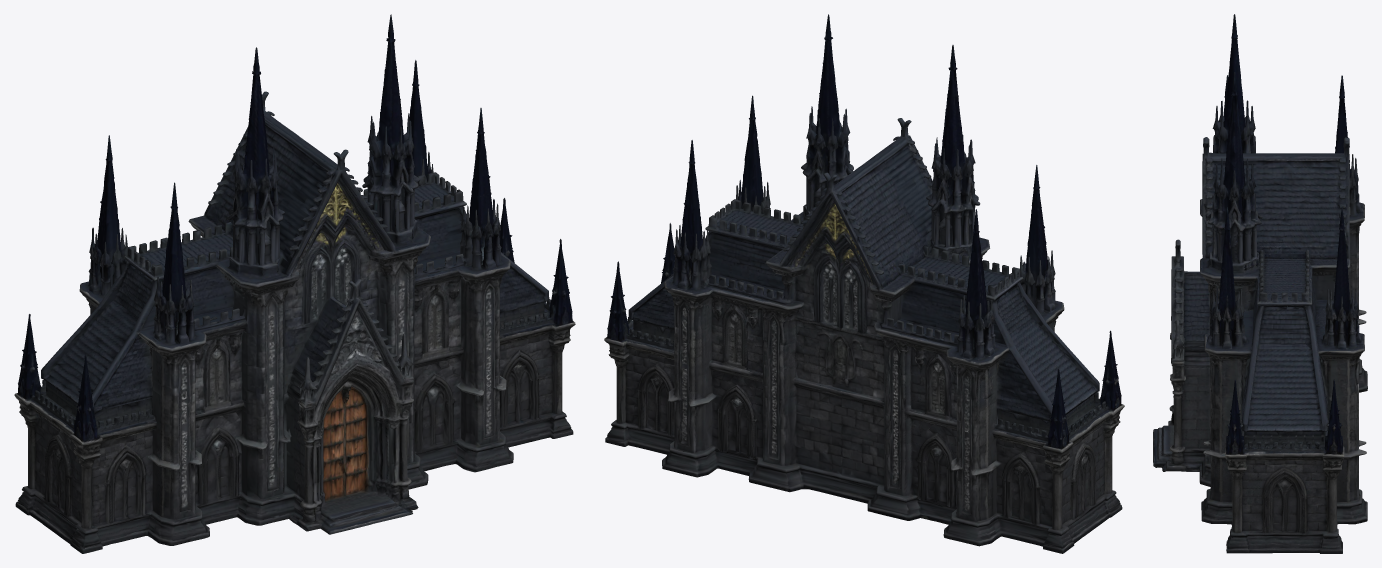
The model's file is stage-5-citadel.glb.
3 views of the same model, side by side, from view 1: azimuth 30°, elevation 25°; view 2: azimuth 150°, elevation 25°; view 3: azimuth 270°, elevation 25° (orthographic). The views are drawn at different scales.
Parts seen in each view (by area): view 1: tripo_node_79a6837b-ad63-48c1-955f-cf2cb4aecddd; view 2: tripo_node_79a6837b-ad63-48c1-955f-cf2cb4aecddd; view 3: tripo_node_79a6837b-ad63-48c1-955f-cf2cb4aecddd.
Boxes of the visible parts, x1,y1,x2,y2 form: tripo_node_79a6837b-ad63-48c1-955f-cf2cb4aecddd: (14,14,575,553); tripo_node_79a6837b-ad63-48c1-955f-cf2cb4aecddd: (604,14,1124,553); tripo_node_79a6837b-ad63-48c1-955f-cf2cb4aecddd: (1153,14,1367,553).
Size of the model in its own units: 0.9777 by 0.8728 by 0.4181.
Materials: 1 (1 with a texture image).
